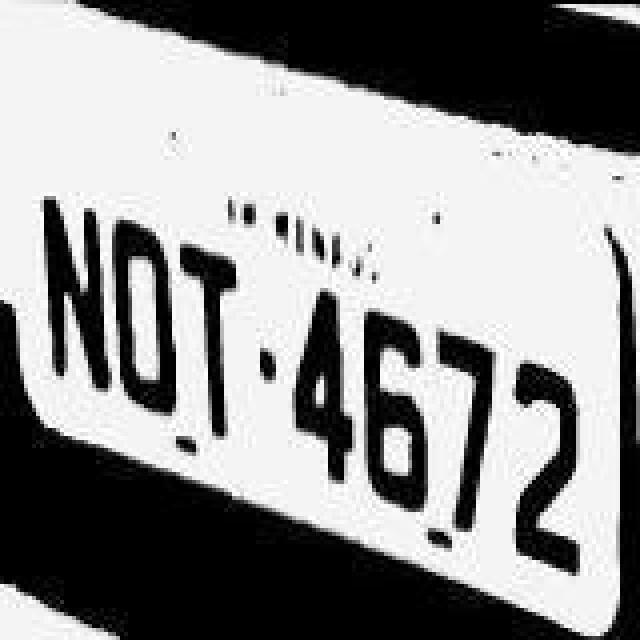2: (510, 352, 594, 592)
4: (286, 280, 362, 492)
6: (360, 300, 440, 520)
7: (428, 322, 500, 538)
N: (34, 194, 110, 398)
O: (110, 220, 178, 420)
T: (176, 234, 248, 442)
